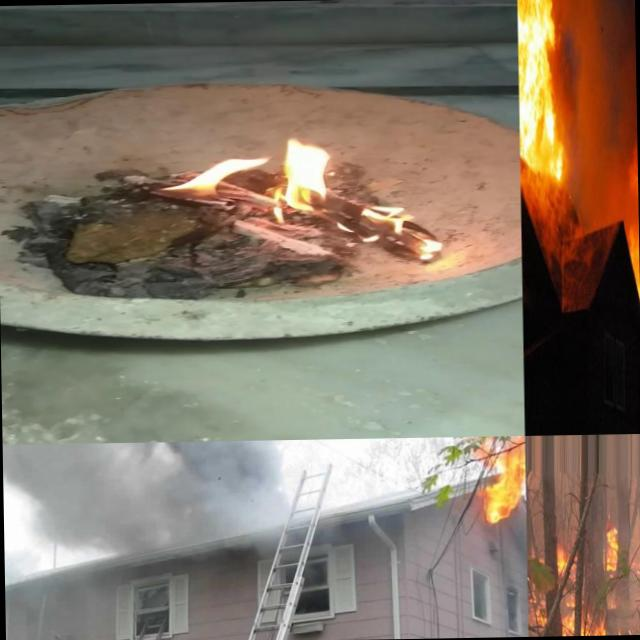fire: (133, 119, 440, 261), (517, 0, 569, 181), (613, 131, 640, 332), (472, 436, 526, 522), (580, 609, 640, 635), (599, 522, 623, 578)
smoke: (2, 440, 286, 557)
